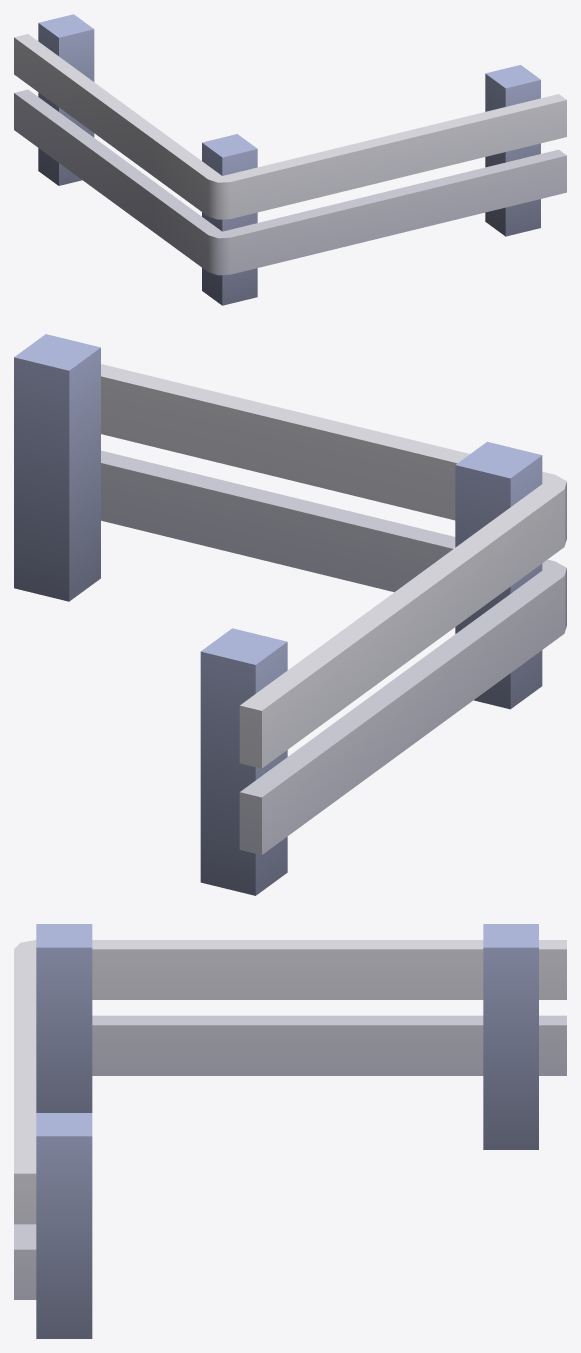
File: fence-corner.glb
The picture shows the model from 3 angles, top to bottom: view 1: azimuth 30°, elevation 25°; view 2: azimuth 150°, elevation 25°; view 3: azimuth 270°, elevation 25°; orthographic projection. The views are drawn at different scales.
Visible parts, largest first — view 1: fence-corner; view 2: fence-corner; view 3: fence-corner.
Boxes of the visible parts, x1,y1,x2,y2 form: fence-corner: (14,14,566,305); fence-corner: (14,334,566,895); fence-corner: (14,924,566,1338).
Size of the model in its own units: 0.99 by 0.4 by 0.99.
